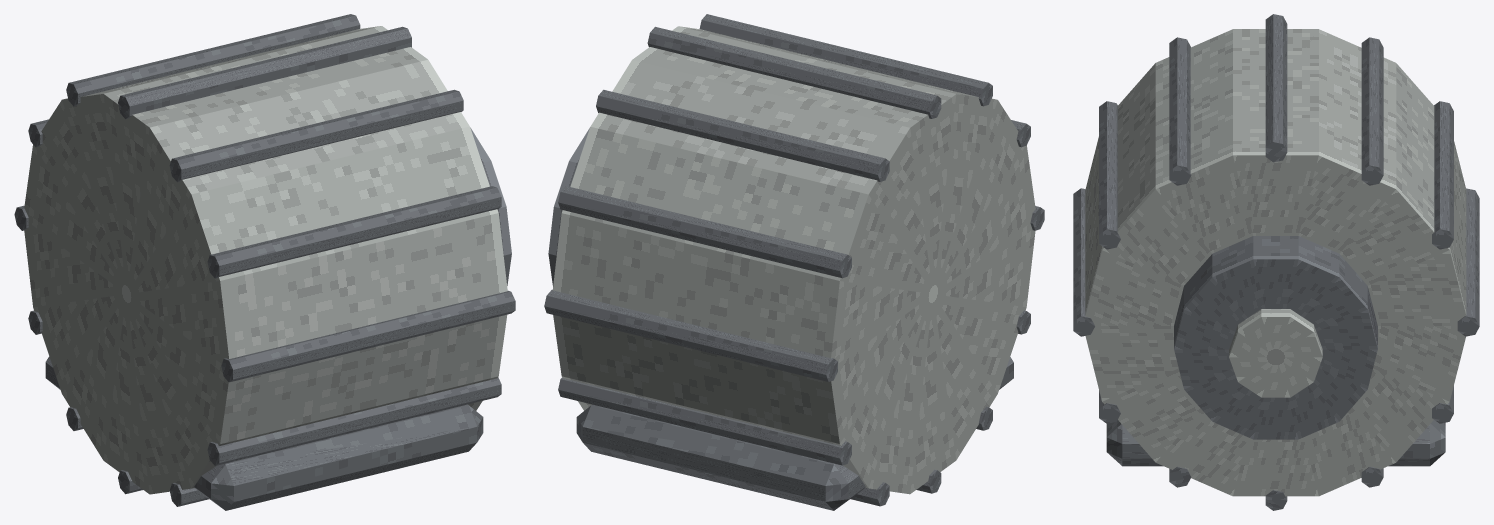
Rendered from alternator_car.glb.
3 views of the same model, side by side, from view 1: azimuth 30°, elevation 25°; view 2: azimuth 150°, elevation 25°; view 3: azimuth 270°, elevation 25° (orthographic). The views are drawn at different scales.
Parts seen in each view (by area): view 1: block_vented cast body, block_cooling rib (×7), block_mounting foot, block_drive pulley; view 2: block_vented cast body, block_cooling rib (×7), block_mounting foot, block_drive pulley; view 3: block_vented cast body, block_drive pulley, block_cooling rib (×7), block_hub centre, block_mounting foot.
Boxes of the visible parts, bbox=[...] form: block_vented cast body: bbox=[24, 26, 507, 494]; block_cooling rib (×7): bbox=[66, 14, 515, 506]; block_mounting foot: bbox=[45, 356, 483, 510]; block_drive pulley: bbox=[470, 127, 511, 285]; block_vented cast body: bbox=[552, 26, 1035, 494]; block_cooling rib (×7): bbox=[544, 14, 992, 506]; block_mounting foot: bbox=[576, 357, 1013, 510]; block_drive pulley: bbox=[548, 128, 589, 286]; block_vented cast body: bbox=[1085, 29, 1466, 496]; block_drive pulley: bbox=[1174, 236, 1377, 439]; block_cooling rib (×7): bbox=[1073, 14, 1479, 336]; block_hub centre: bbox=[1229, 309, 1322, 397]; block_mounting foot: bbox=[1106, 420, 1445, 466].
Bounding box in the file's own units: 0.2393 × 0.2592 × 0.2589.
1 material, 1 textured.
